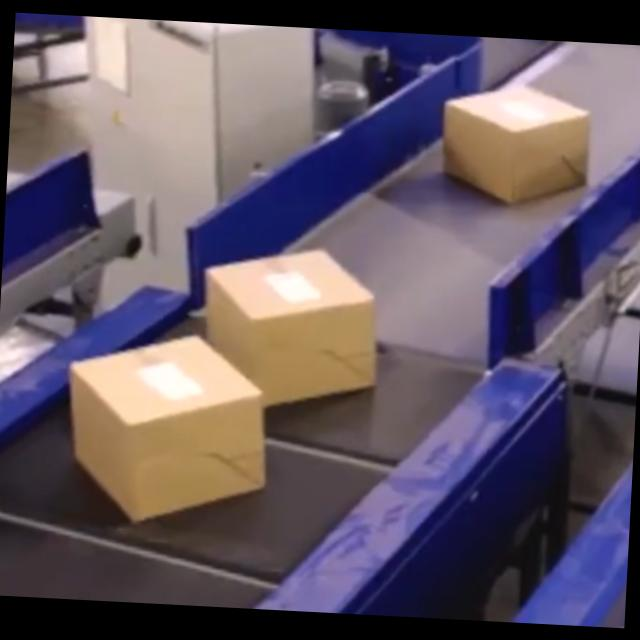box: (63, 327, 278, 524), (197, 241, 390, 410), (442, 80, 594, 208)
